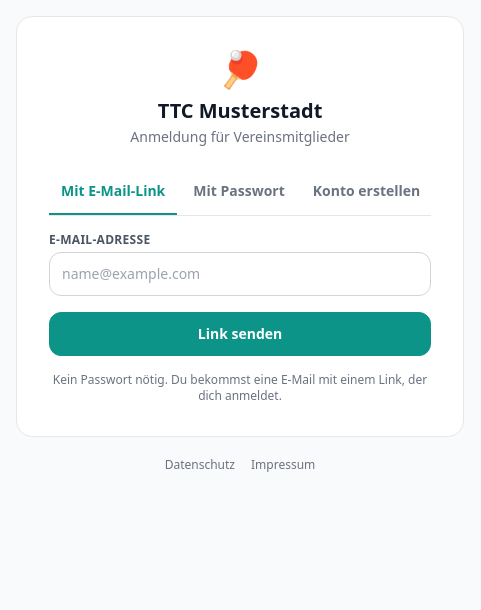
Test: LoginPage › erklärt verständlich, wenn die Adresse dem Verein nicht bekannt ist
In the field labelled "E-Mail-Adresse": point(240, 274) [49,252,431,296], type "fremd@example.com"
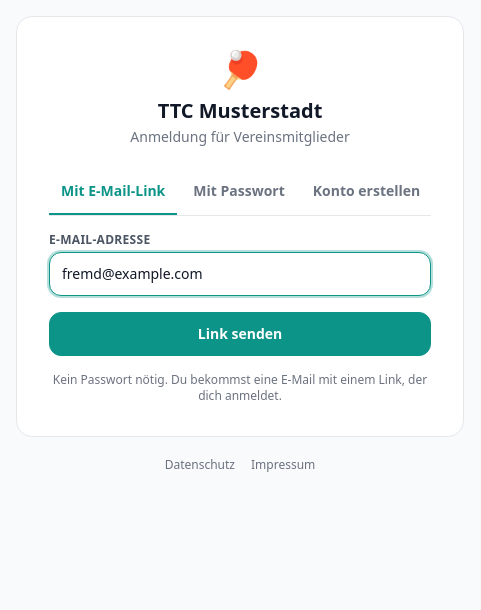
Click the button "Link senden": point(240, 334) [49,312,431,356]
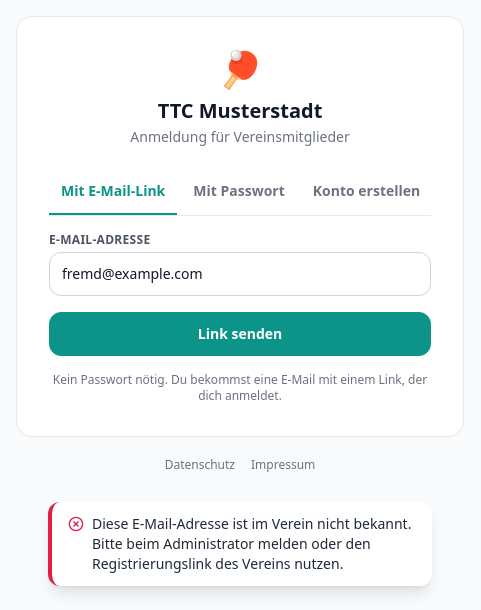
expect the text "im Verein nicht bekannt" is shown: met, box [92,514,411,573]
